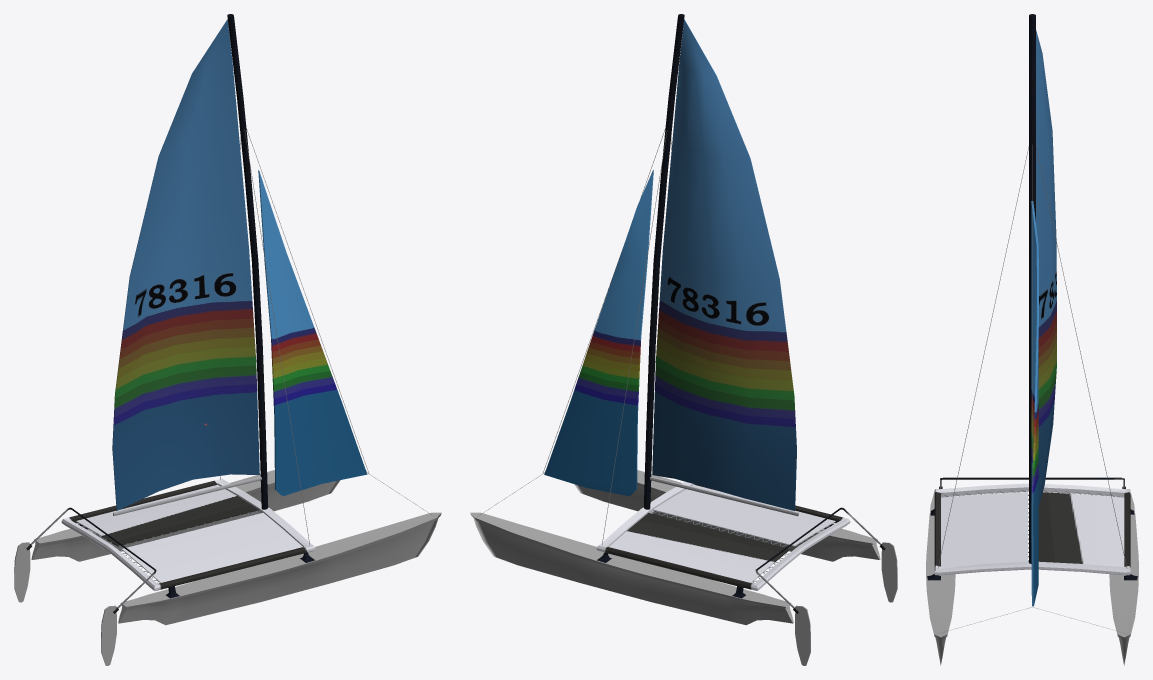
File: hobiecat-nowater.gltf
The picture shows the model from 3 angles, left to right: view 1: azimuth 30°, elevation 25°; view 2: azimuth 150°, elevation 25°; view 3: azimuth 270°, elevation 25°; orthographic projection. The views are drawn at different scales.
Visible parts, largest first — view 1: Hobie_Cat1 (×9); view 2: Hobie_Cat1 (×9); view 3: Hobie_Cat1 (×8).
Part boxes in pixels (bbox=[...]): Hobie_Cat1 (×9): bbox=[14, 14, 441, 665]; Hobie_Cat1 (×9): bbox=[470, 14, 897, 665]; Hobie_Cat1 (×8): bbox=[926, 14, 1138, 665].
Bounding box in the file's own units: 1.09 × 1.76 × 0.5561.
Materials: 14 (14 with a texture image).
